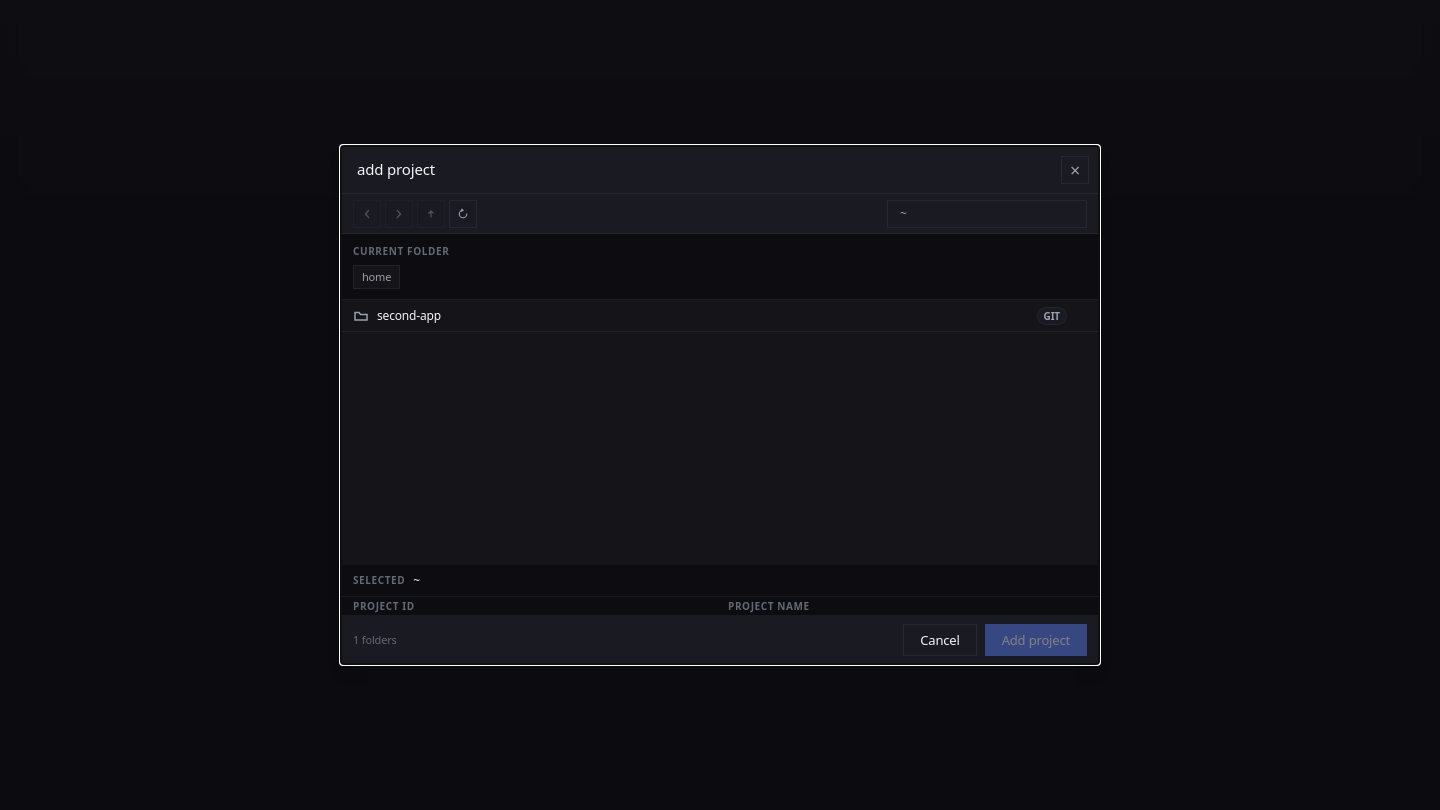
Test: AddProjectModal › offers opening the existing project or using a suffixed project ID when the server returns 409
The image size is (1440, 810).
What coordinates should you click on to do the following:
click the button "second-app git"
I would click on:
 (409, 315)
Its box is [341,300,1099,332].
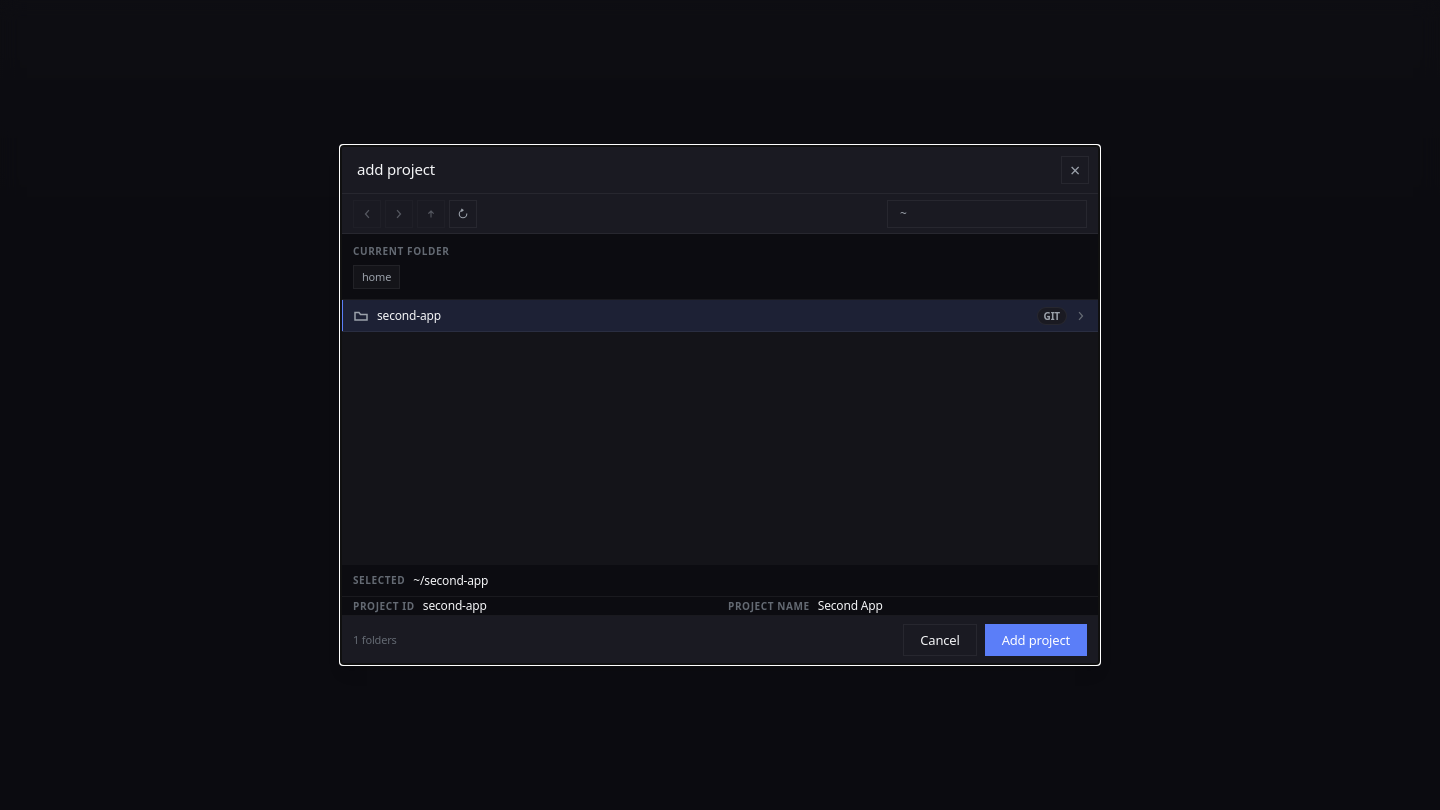
What coordinates should you click on to do the following:
click the button "Add project"
I would click on:
 (1036, 640)
Its box is [985,624,1087,656].
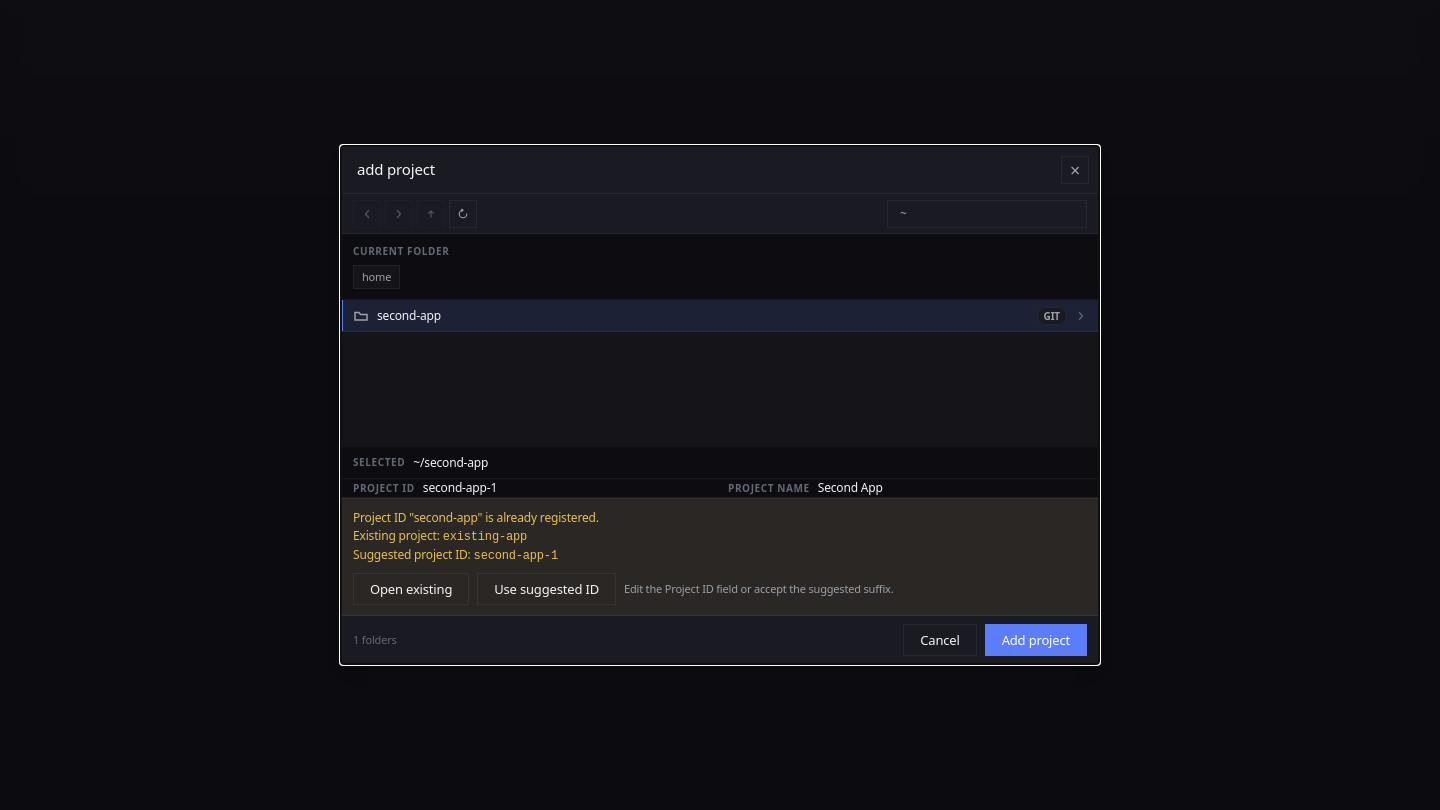
Now the button "Open existing" is shown, box [353,573,469,605]
Now the button "Use suggested ID" is shown, box [477,573,616,605]
Now the field labelled "Project ID" holds "second-app-1", box [423,479,712,497]
